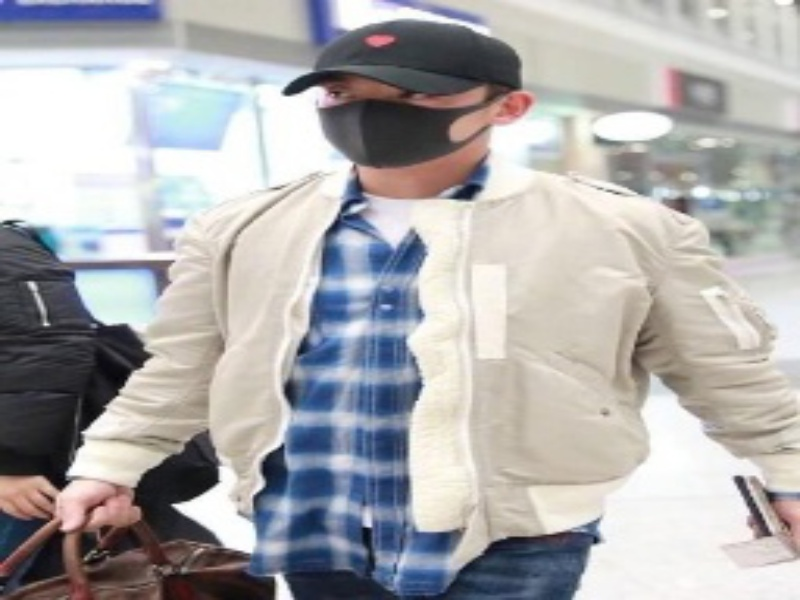ManaoArotava: (284, 19, 538, 194)
